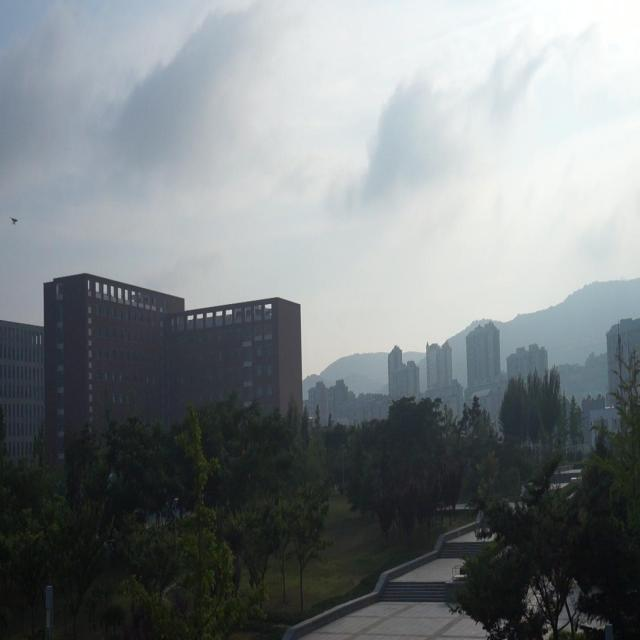UAV: (9, 217, 19, 225)
